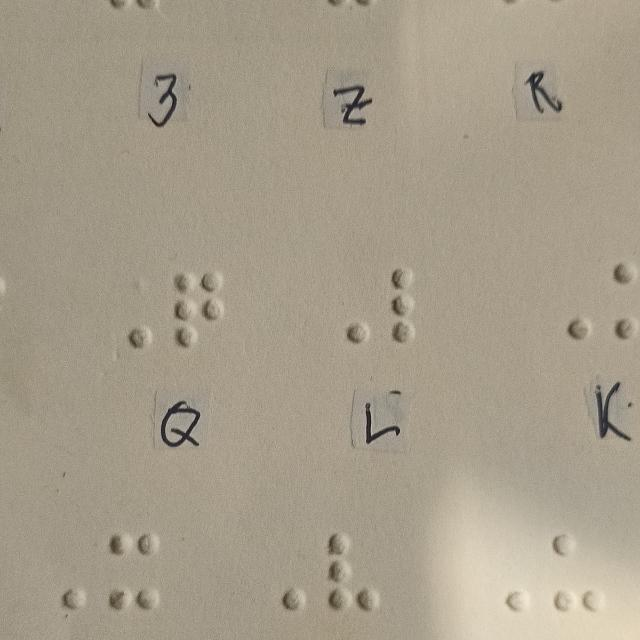L: (388, 263, 445, 345)
Q: (172, 270, 228, 352)
U: (548, 531, 605, 613)
V: (326, 529, 383, 611)
X: (105, 528, 162, 610)
capital: (535, 259, 592, 342), (315, 264, 372, 346), (33, 530, 90, 612), (475, 532, 532, 614), (99, 269, 155, 352), (252, 531, 308, 613)
